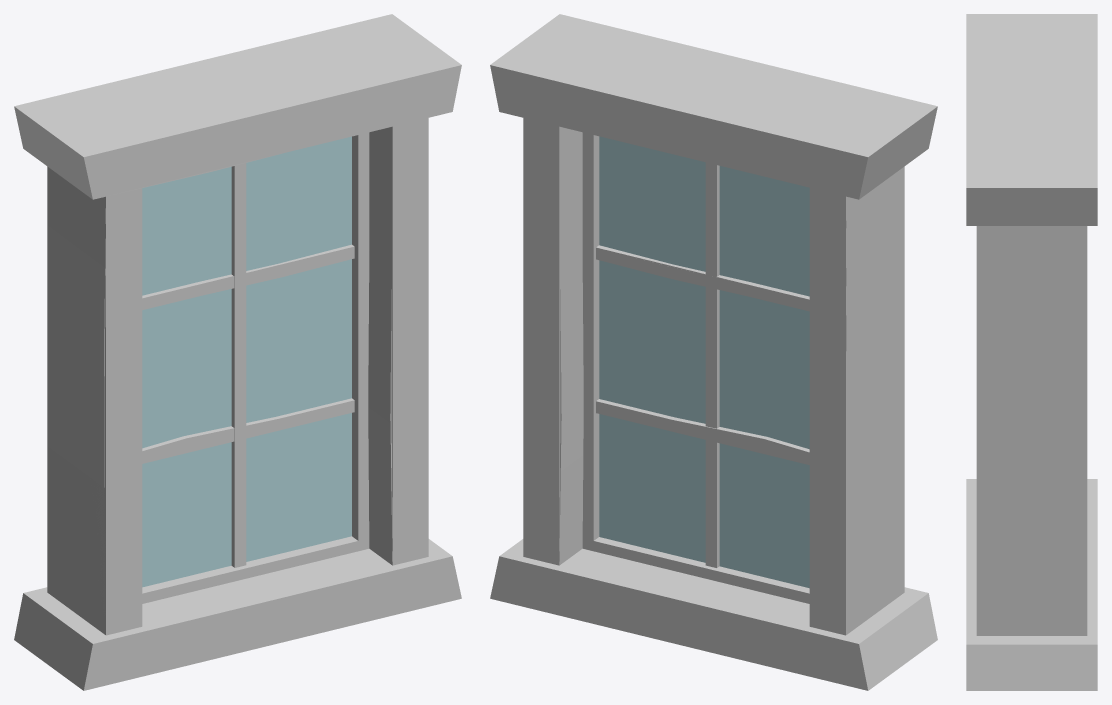
The model's file is Window_2.fbx.
3 renders of one model, left to right at view 1: azimuth 30°, elevation 25°; view 2: azimuth 150°, elevation 25°; view 3: azimuth 270°, elevation 25°, orthographic. The views are drawn at different scales.
Visible parts, largest first — view 1: Window_2_LOD0, Window_2_Glass, Window_2; view 2: Window_2_LOD0, Window_2_Glass, Window_2; view 3: Window_2_LOD0, Window_2.
Boxes of the visible parts, x1,y1,x2,y2 form: Window_2_LOD0: [14, 14, 461, 690]; Window_2_Glass: [142, 136, 351, 587]; Window_2: [20, 126, 392, 690]; Window_2_LOD0: [490, 14, 937, 690]; Window_2_Glass: [599, 136, 809, 588]; Window_2: [559, 115, 937, 676]; Window_2_LOD0: [966, 14, 1097, 690]; Window_2: [966, 188, 1097, 690].
Size of the model in its own units: 90.84 by 123 by 28.99.
